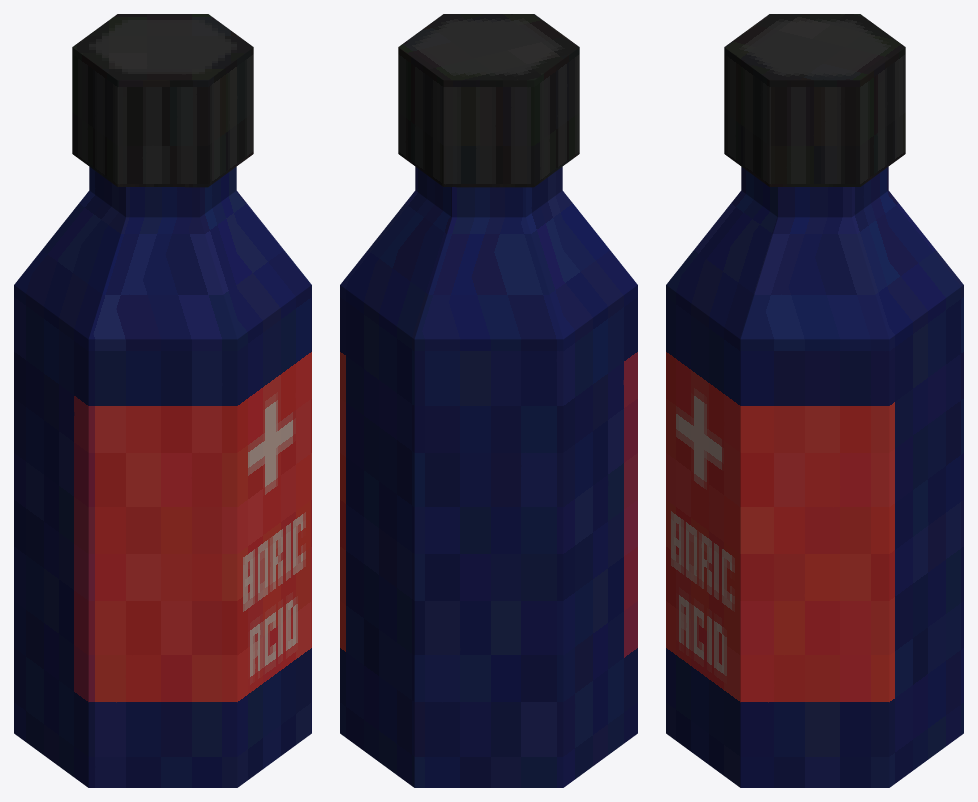
Rendered from Med_5.glb.
3 renders of one model, left to right at view 1: azimuth 30°, elevation 25°; view 2: azimuth 150°, elevation 25°; view 3: azimuth 270°, elevation 25°, orthographic.
Visible parts, largest first — view 1: Med_5; view 2: Med_5; view 3: Med_5.
Part boxes in pixels (left/top/right/bottom): Med_5: left=14, top=14, right=311, bottom=787; Med_5: left=340, top=14, right=637, bottom=787; Med_5: left=666, top=14, right=963, bottom=787.
Size of the model in its own units: 2.61 by 7.65 by 3.01.
1 material, 1 textured.
